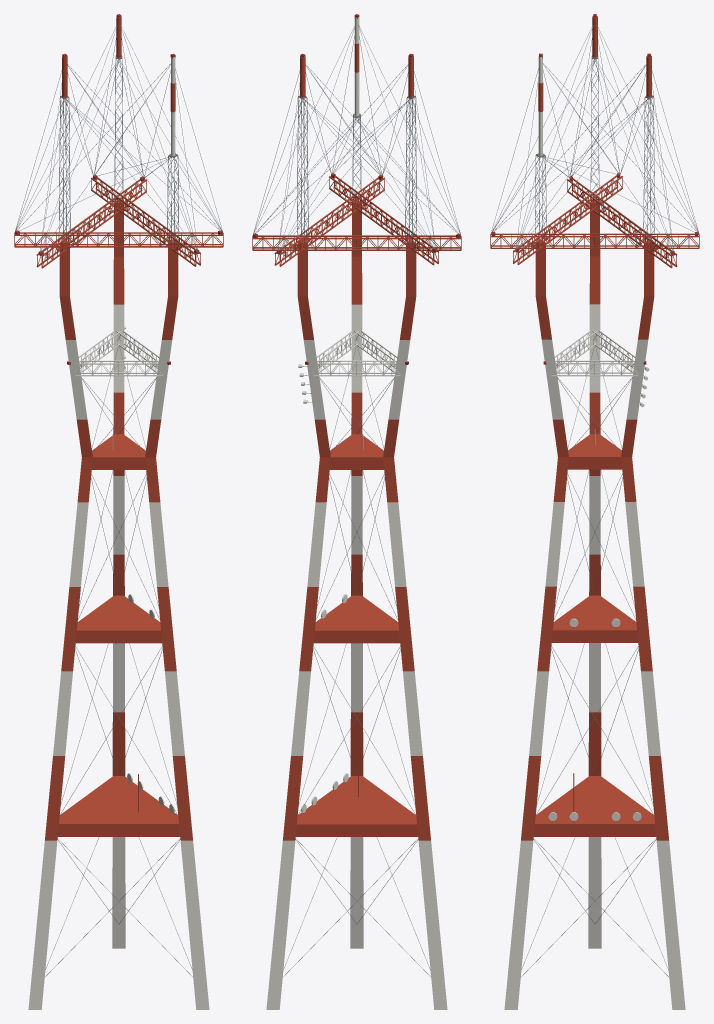
Rendered from sutro-tower-near.glb.
3 renders of one model, left to right at view 1: azimuth 30°, elevation 25°; view 2: azimuth 150°, elevation 25°; view 3: azimuth 270°, elevation 25°, orthographic.
Parts seen in each view (by area): view 1: sutro-tower-0-orange, sutro-tower-0-white, sutro-tower-0-steel; view 2: sutro-tower-0-orange, sutro-tower-0-white, sutro-tower-0-steel; view 3: sutro-tower-0-orange, sutro-tower-0-white, sutro-tower-0-steel.
Part boxes in pixels (left/top/right/bottom): sutro-tower-0-orange: left=14, top=16, right=223, bottom=840; sutro-tower-0-white: left=28, top=57, right=209, bottom=1009; sutro-tower-0-steel: left=14, top=25, right=223, bottom=976; sutro-tower-0-orange: left=252, top=43, right=461, bottom=840; sutro-tower-0-white: left=266, top=17, right=447, bottom=1009; sutro-tower-0-steel: left=252, top=24, right=461, bottom=976; sutro-tower-0-orange: left=490, top=16, right=699, bottom=840; sutro-tower-0-white: left=504, top=56, right=685, bottom=1009; sutro-tower-0-steel: left=490, top=25, right=699, bottom=976.
Bounding box in the file's own units: 52.51 × 298 × 59.7.
